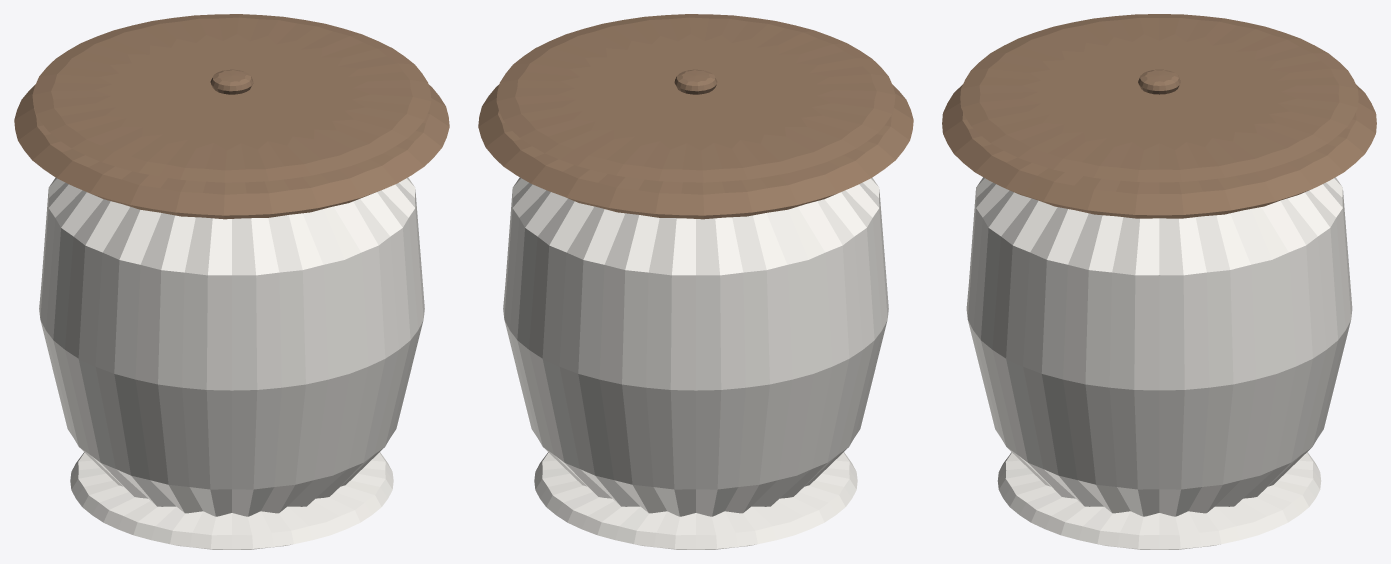
File: coffee.glb
3 views of the same model, side by side, from view 1: azimuth 30°, elevation 25°; view 2: azimuth 150°, elevation 25°; view 3: azimuth 270°, elevation 25° (orthographic).
Parts seen in each view (by area): view 1: Cafe; view 2: Cafe; view 3: Cafe.
Boxes of the visible parts, x1,y1,x2,y2 form: Cafe: [14, 14, 449, 549]; Cafe: [478, 14, 913, 549]; Cafe: [942, 14, 1376, 549].
Size of the model in its own units: 0.3665 by 0.392 by 0.3665.
